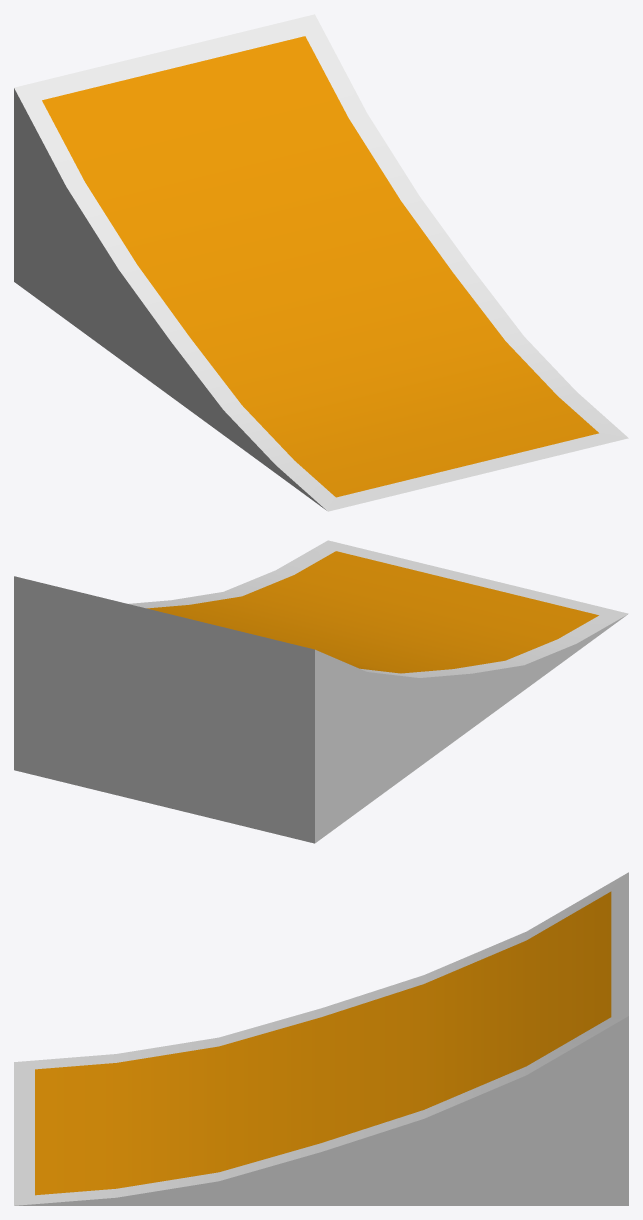
File: RaceTrackMiniRamp.fbx
The picture shows the model from 3 angles, top to bottom: view 1: azimuth 30°, elevation 25°; view 2: azimuth 150°, elevation 25°; view 3: azimuth 270°, elevation 25°; orthographic projection. The views are drawn at different scales.
Parts seen in each view (by area): view 1: MiniRamp; view 2: MiniRamp; view 3: MiniRamp.
Boxes of the visible parts, <box> form: MiniRamp: <box>14,14,628,511</box>; MiniRamp: <box>14,540,628,843</box>; MiniRamp: <box>14,872,628,1205</box>.
Size of the model in its own units: 472 by 291 by 854.
